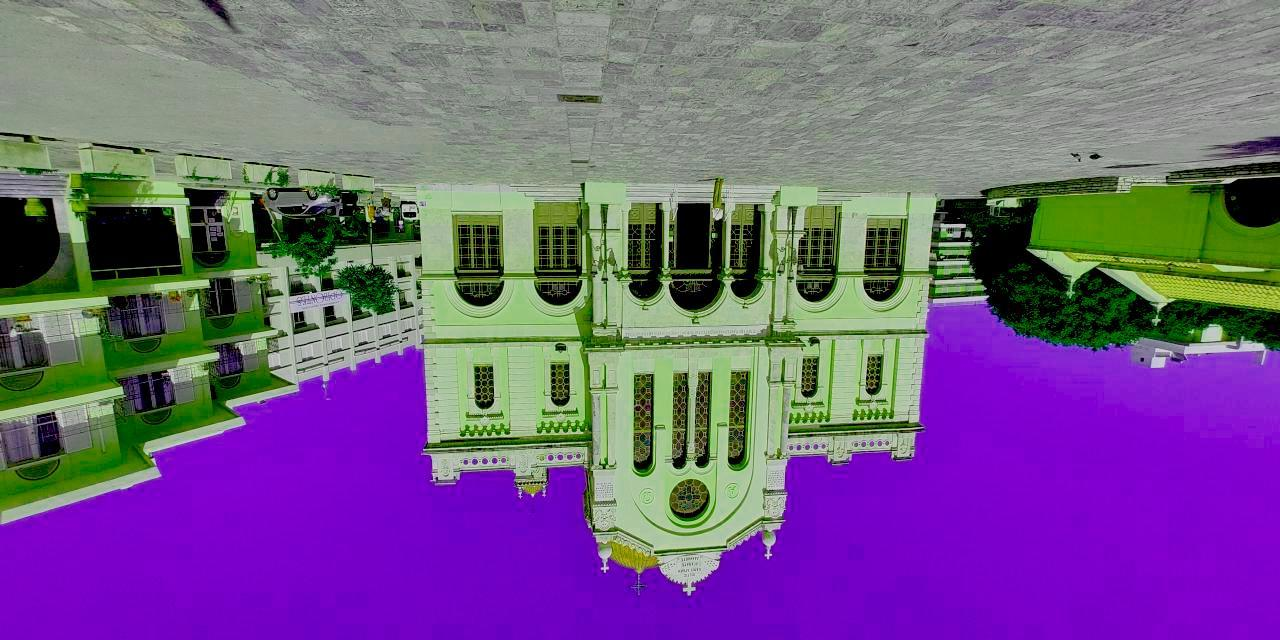Agios Minas: (419, 169, 939, 621)
